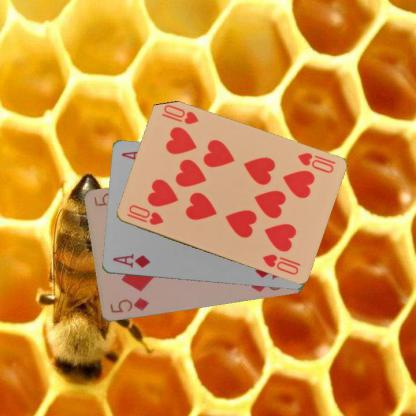10h: (124, 202, 164, 227), (294, 150, 335, 174)
5d: (107, 296, 150, 314)
Ad: (110, 251, 151, 270)
